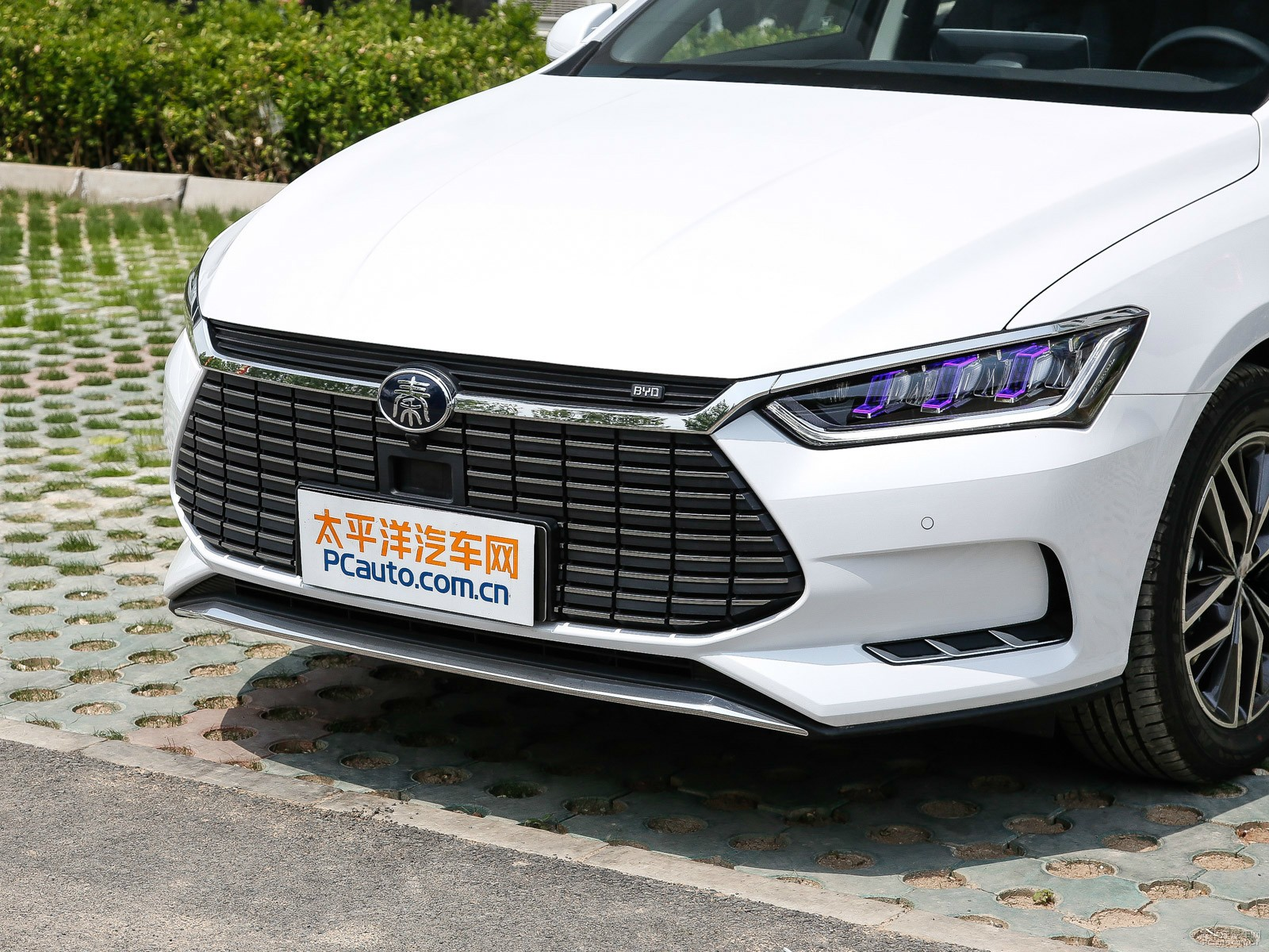BYD Qin: (378, 370, 450, 432)
